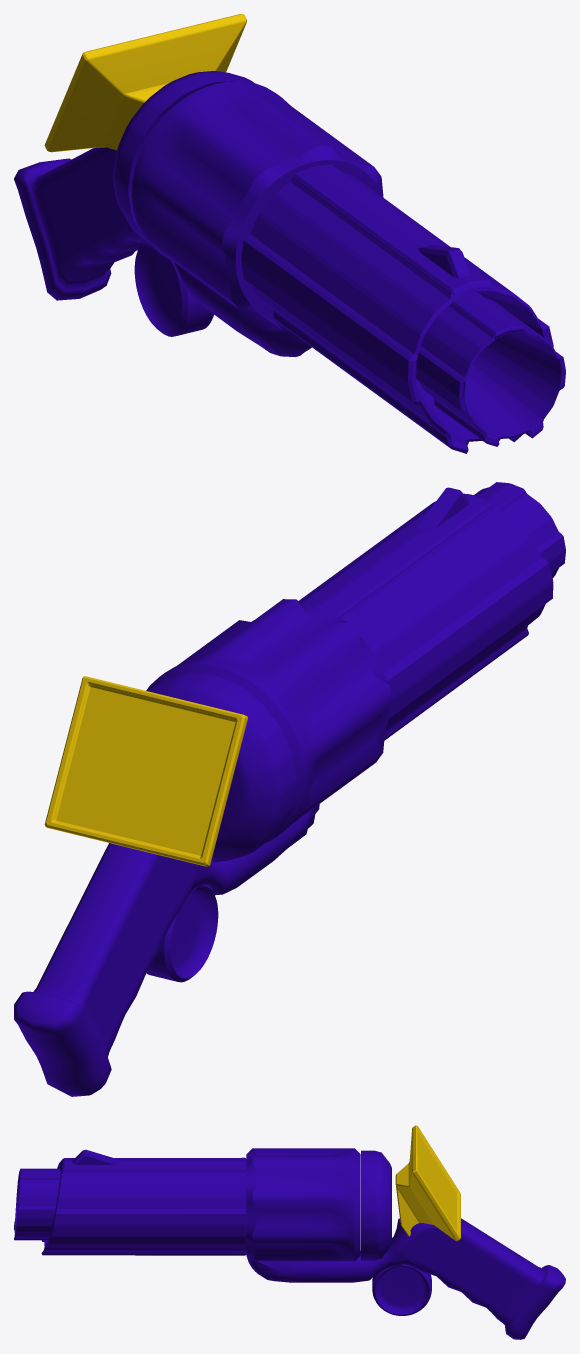
File: ArmaFull_V2.fbx
3 views of the same model, one above another, from view 1: azimuth 30°, elevation 25°; view 2: azimuth 150°, elevation 25°; view 3: azimuth 270°, elevation 25° (orthographic). The views are drawn at different scales.
Visible parts, largest first — view 1: Centro, Tambor, Empunadura, Punta, Pantalla, Percutor, pCylinder5, Mira; view 2: Centro, Pantalla, Empunadura, Tambor, Percutor, pCylinder5, Punta, Mira; view 3: Centro, Tambor, Empunadura, Pantalla, Percutor, Punta, pCylinder5, Mira.
Boxes of the visible parts, left/top/right/bottom form: Centro: left=241, top=164, right=553, bottom=453; Tambor: left=131, top=81, right=383, bottom=329; Empunadura: left=14, top=147, right=311, bottom=356; Punta: left=416, top=292, right=565, bottom=446; Pantalla: left=44, top=14, right=246, bottom=152; Percutor: left=113, top=71, right=253, bottom=242; pCylinder5: left=134, top=241, right=213, bottom=336; Mira: left=418, top=245, right=470, bottom=278; Centro: left=298, top=493, right=553, bottom=740; Pantalla: left=44, top=676, right=247, bottom=866; Empunadura: left=14, top=804, right=319, bottom=1096; Tambor: left=146, top=599, right=392, bottom=842; Percutor: left=147, top=672, right=296, bottom=862; pCylinder5: left=146, top=884, right=218, bottom=982; Punta: left=474, top=482, right=565, bottom=577; Mira: left=416, top=487, right=469, bottom=531; Centro: left=41, top=1157, right=246, bottom=1255; Tambor: left=246, top=1148, right=360, bottom=1261; Empunadura: left=246, top=1218, right=565, bottom=1339; Pantalla: left=395, top=1125, right=460, bottom=1241; Percutor: left=361, top=1150, right=391, bottom=1260; Punta: left=14, top=1168, right=60, bottom=1240; pCylinder5: left=372, top=1264, right=431, bottom=1315; Mira: left=72, top=1149, right=119, bottom=1164.
Size of the model in its own units: 15.6 by 28.92 by 75.96.
